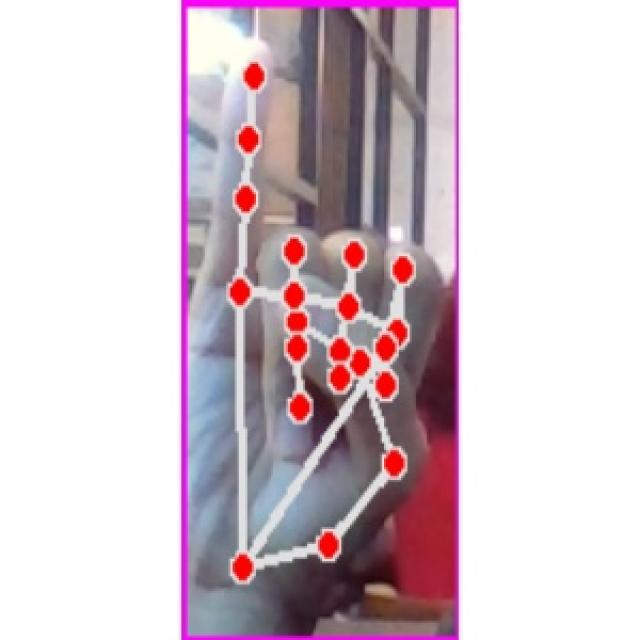I: (198, 35, 438, 603)
